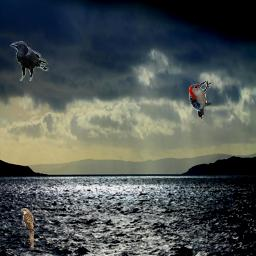Crow: (10, 41, 49, 81)
Cuckoo: (21, 208, 34, 248)
Woodpecker: (189, 81, 211, 121)
